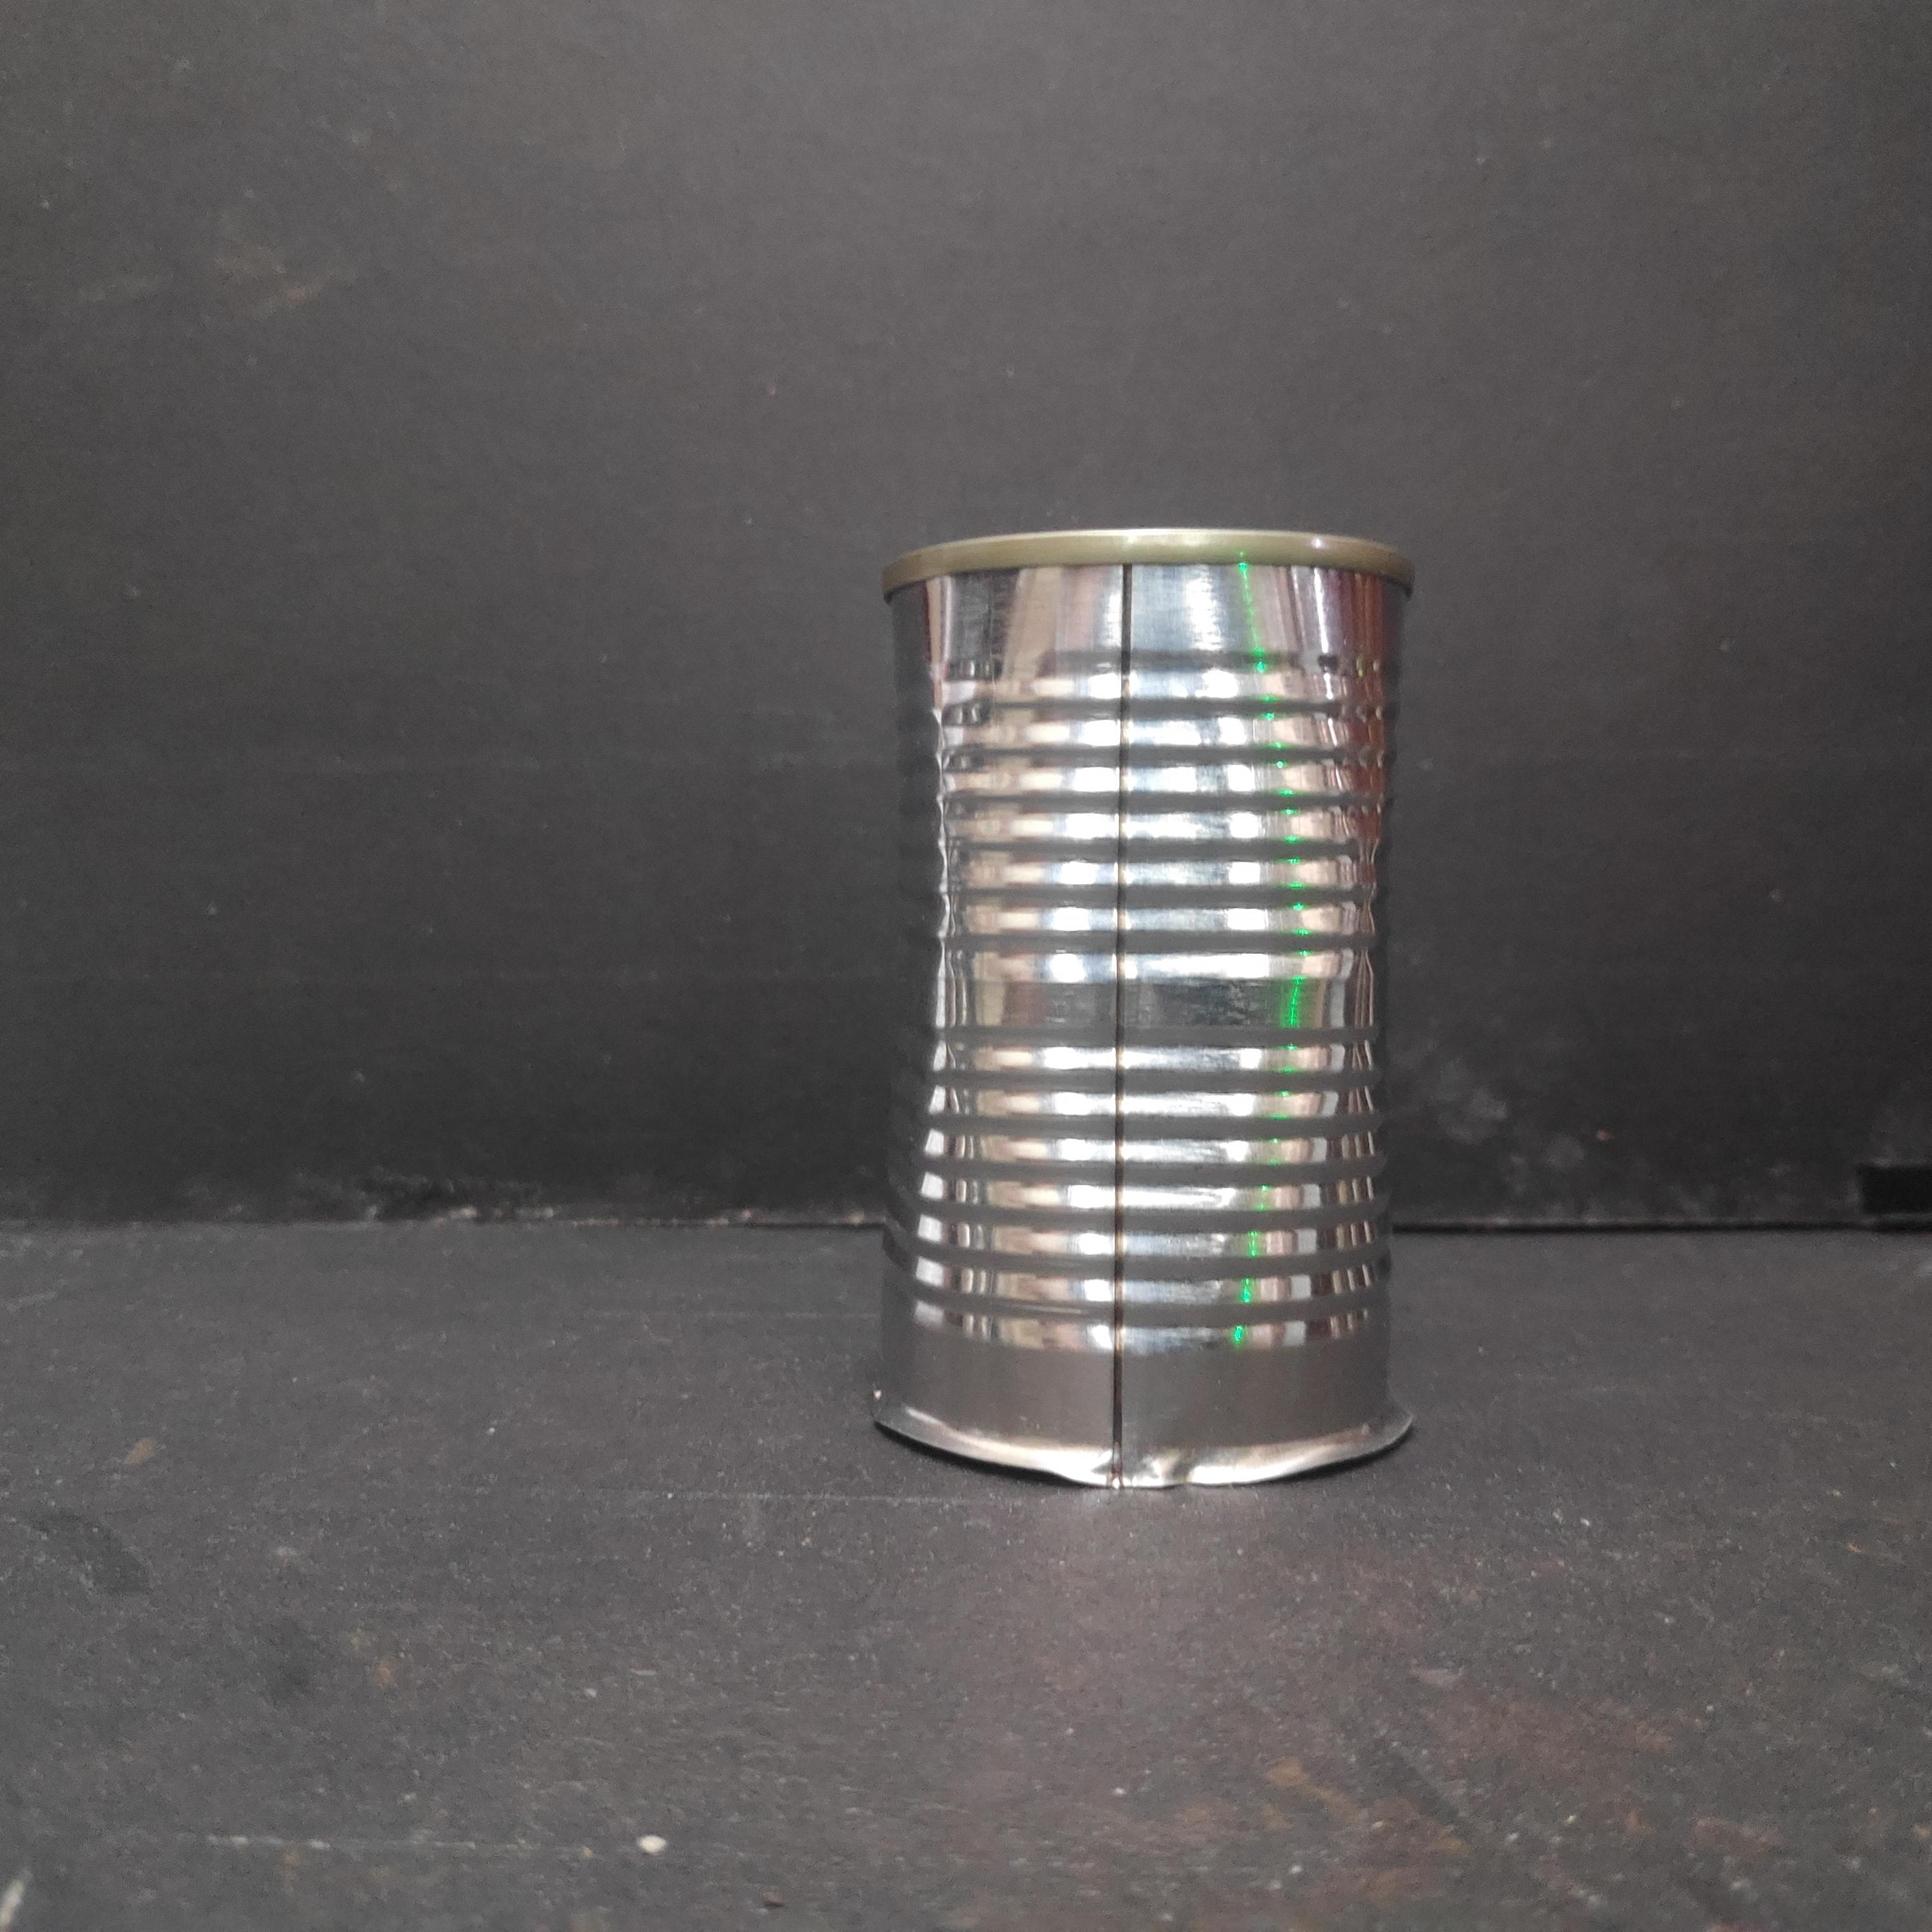Minor Defect: (874, 522, 1419, 1504)
